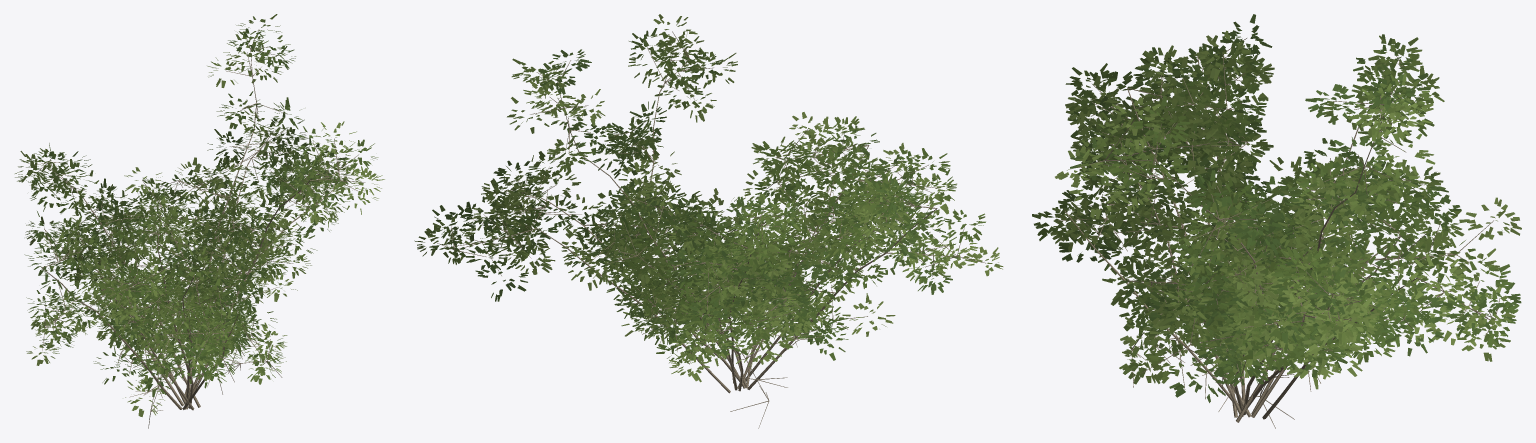
File: willow.glb
3 views of the same model, side by side, from view 1: azimuth 30°, elevation 25°; view 2: azimuth 150°, elevation 25°; view 3: azimuth 270°, elevation 25° (orthographic). The views are drawn at different scales.
Parts seen in each view (by area): view 1: lime_lod0_1, lime_lod0_0; view 2: lime_lod0_1, lime_lod0_0; view 3: lime_lod0_1, lime_lod0_0.
Boxes of the visible parts, bbox=[...] form: lime_lod0_1: bbox=[15, 14, 384, 416]; lime_lod0_0: bbox=[34, 29, 365, 428]; lime_lod0_1: bbox=[414, 14, 1003, 382]; lime_lod0_0: bbox=[437, 31, 985, 428]; lime_lod0_1: bbox=[1032, 14, 1521, 402]; lime_lod0_0: bbox=[1058, 38, 1499, 428].
Size of what is drawn, in the model's own units: 7.11 by 5.55 by 5.52.
Materials: 2 (1 with a texture image).
